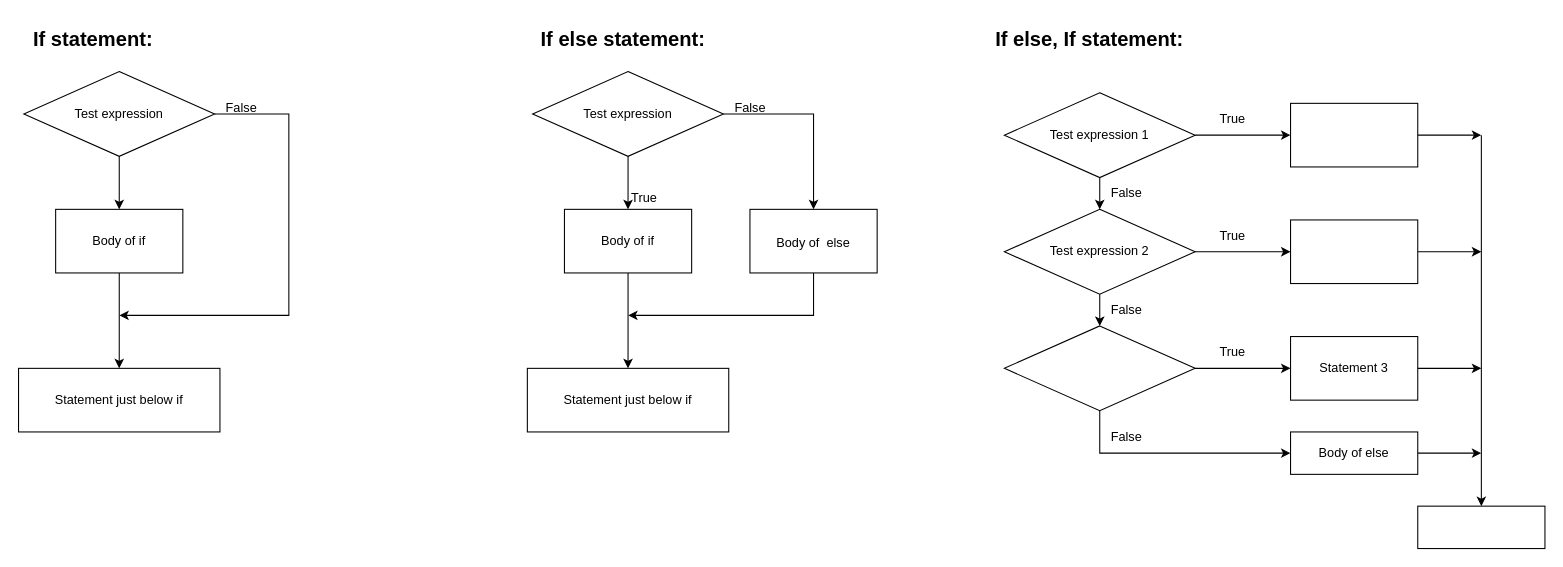
Some shapes in this 1563 by 567 pixel diagram are drawn without their labels. Here are the shapes that lost their labels. From the top down, the box of each, then its label:
(1289, 102, 1418, 167): Statement 1
(1289, 219, 1418, 284): Statment 2
(1003, 325, 1195, 411): Test expression 3
(1417, 505, 1545, 549): Statement just below if else
